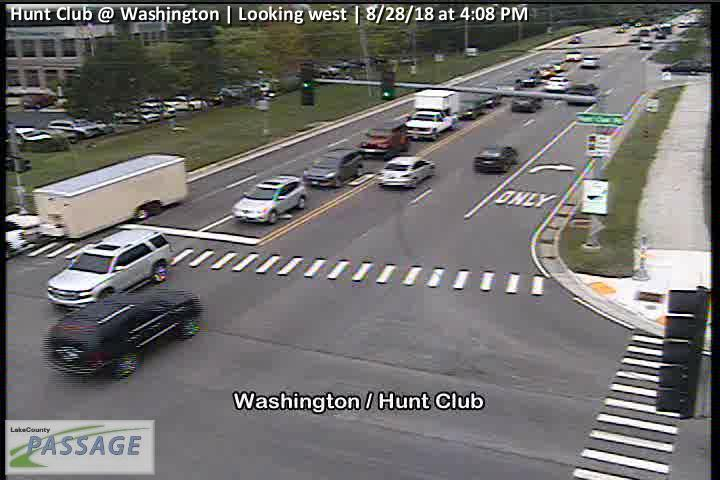SUV: (45, 289, 204, 380), (45, 227, 173, 309), (358, 121, 411, 154)
Sedan: (232, 175, 310, 224), (301, 148, 363, 187), (377, 155, 436, 189), (473, 144, 518, 173), (508, 94, 545, 112), (566, 84, 600, 103), (543, 77, 569, 91), (583, 54, 600, 67)
Truck: (7, 154, 190, 256), (403, 87, 460, 138)
